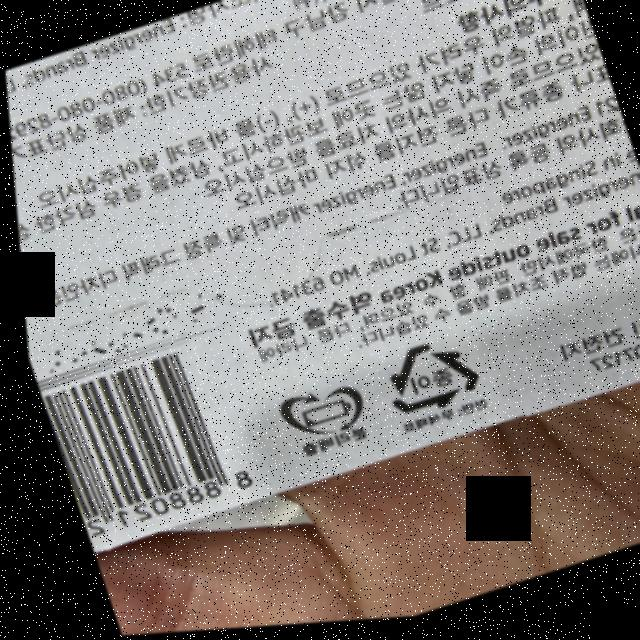Paper: (365, 333, 483, 430)
